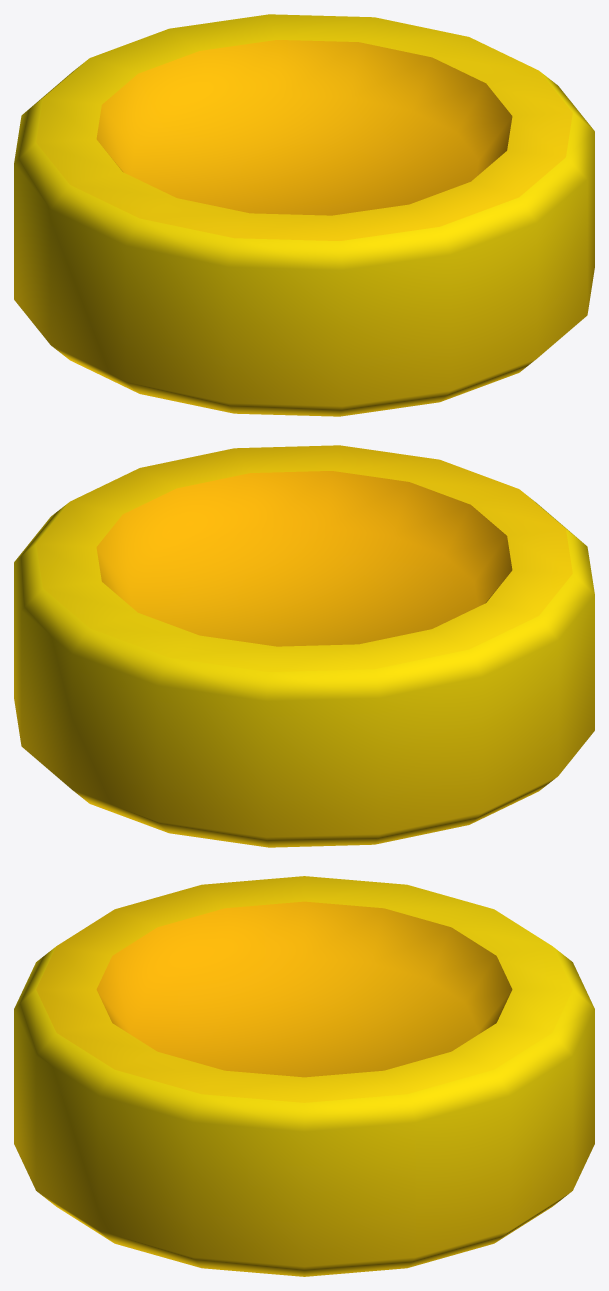
The model's file is Money.fbx.
3 renders of one model, top to bottom at view 1: azimuth 30°, elevation 25°; view 2: azimuth 150°, elevation 25°; view 3: azimuth 270°, elevation 25°, orthographic.
Parts seen in each view (by area): view 1: Money; view 2: Money; view 3: Money.
Boxes of the visible parts, x1,y1,x2,y2 form: Money: (14,14,594,416); Money: (14,445,594,847); Money: (14,876,594,1276).
Bounding box in the file's own units: 76.65 × 25.33 × 76.65.
